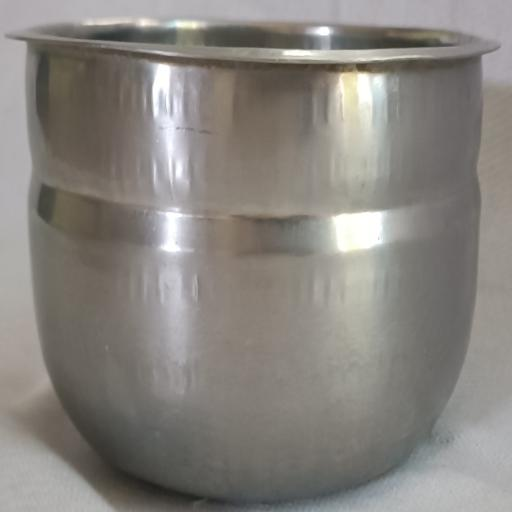vessel: (13, 20, 497, 500)
